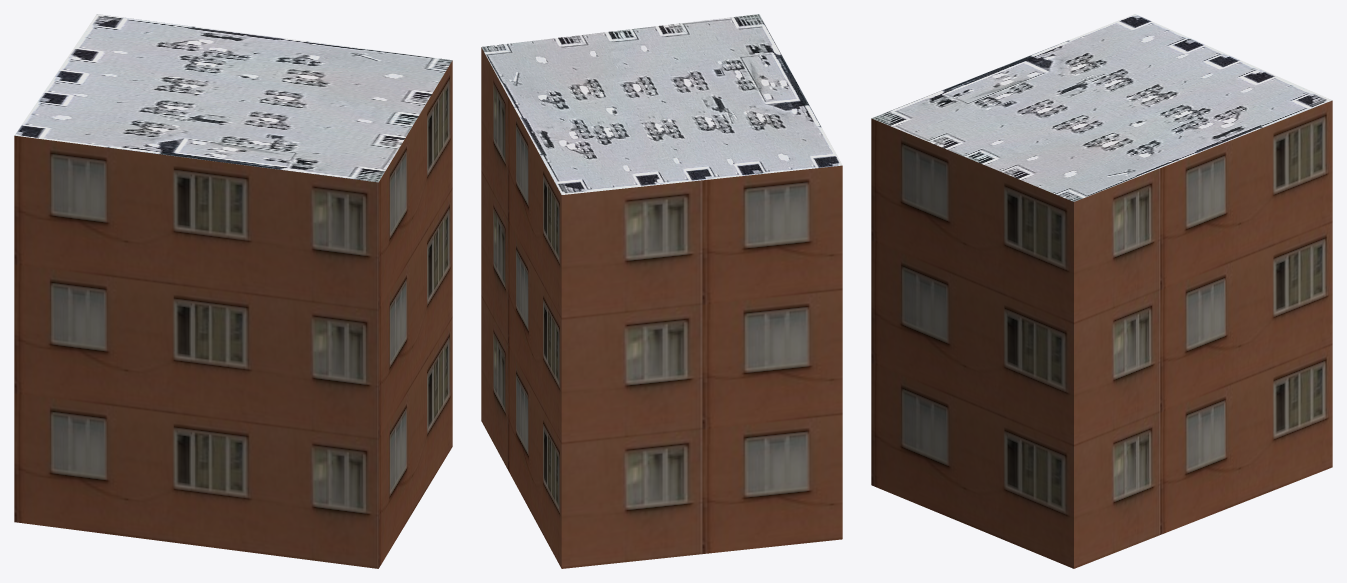
The model's file is ResTex__4879.fbx.
3 views of the same model, side by side, from view 1: azimuth 30°, elevation 25°; view 2: azimuth 150°, elevation 25°; view 3: azimuth 270°, elevation 25° (orthographic). The views are drawn at different scales.
Parts seen in each view (by area): view 1: CityEngineMaterial_20_m, CityEngineMaterial_4_m; view 2: CityEngineMaterial_20_m, CityEngineMaterial_4_m; view 3: CityEngineMaterial_20_m, CityEngineMaterial_4_m.
Boxes of the visible parts, x1,y1,x2,y2 form: CityEngineMaterial_20_m: (14,60,452,568); CityEngineMaterial_4_m: (14,14,452,182); CityEngineMaterial_20_m: (481,47,842,568); CityEngineMaterial_4_m: (481,14,842,194); CityEngineMaterial_20_m: (871,100,1332,568); CityEngineMaterial_4_m: (871,14,1332,201).
Bounding box in the file's own units: 9.89 × 9 × 10.26.
Materials: 2 (2 with a texture image).
